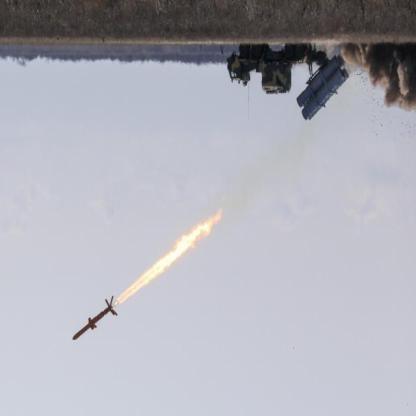MIL_TBM: (71, 298, 123, 346)
